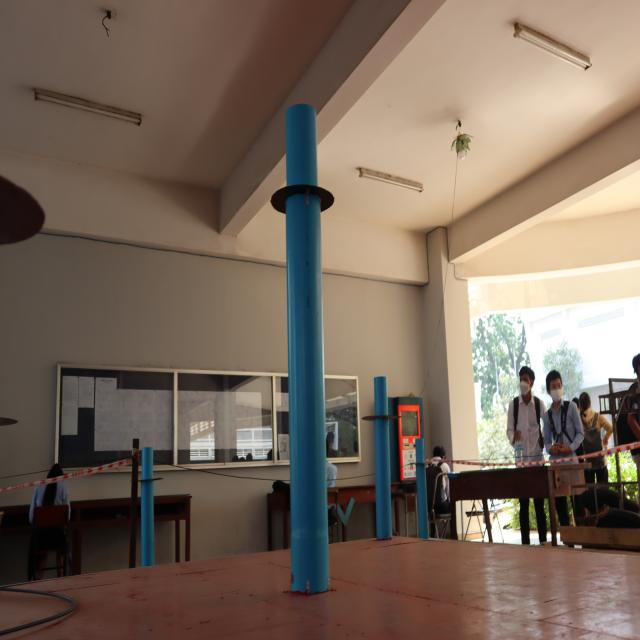pole: (258, 97, 345, 291), (359, 370, 402, 458), (133, 442, 166, 512), (409, 440, 434, 485)
